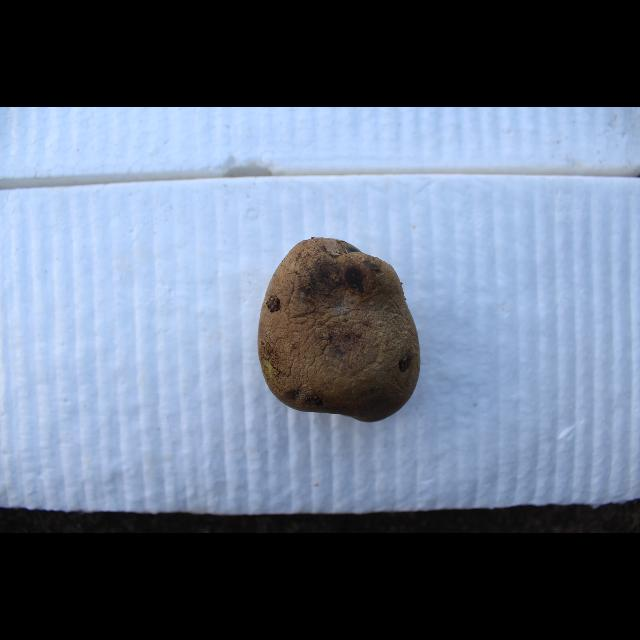Diseased-fungal potato: (250, 236, 426, 424)
